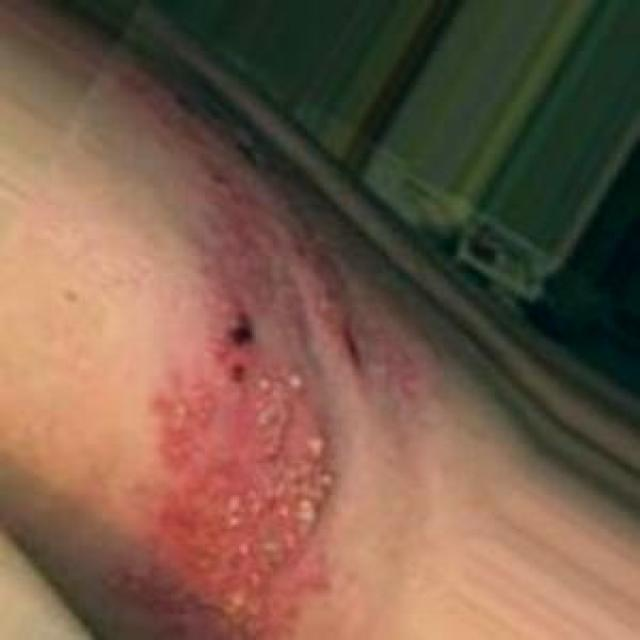Shingles: (113, 363, 328, 625)
